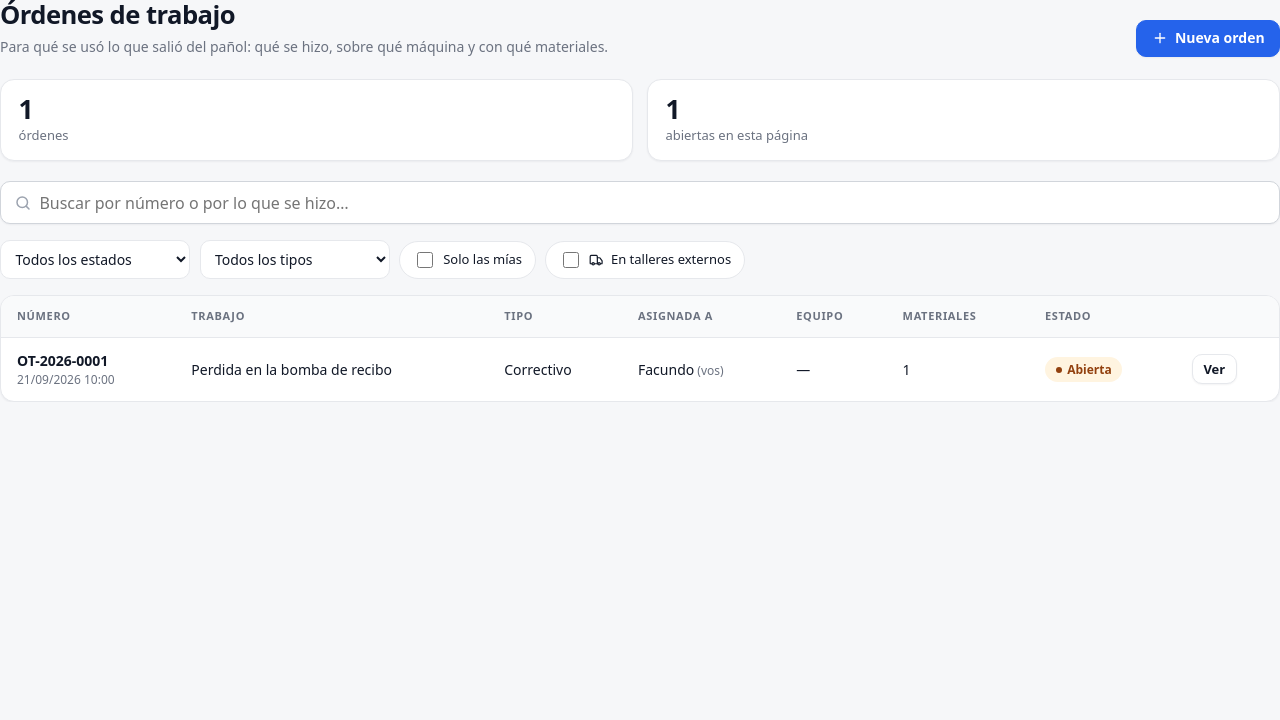
Test: OrdenesTrabajoPage › REGRESION: sin permiso de ver equipos no se ofrece atar la orden a una maquina
The image size is (1280, 720).
Click the button "Nueva orden" at point(1208, 38), box [1136,20,1279,56]
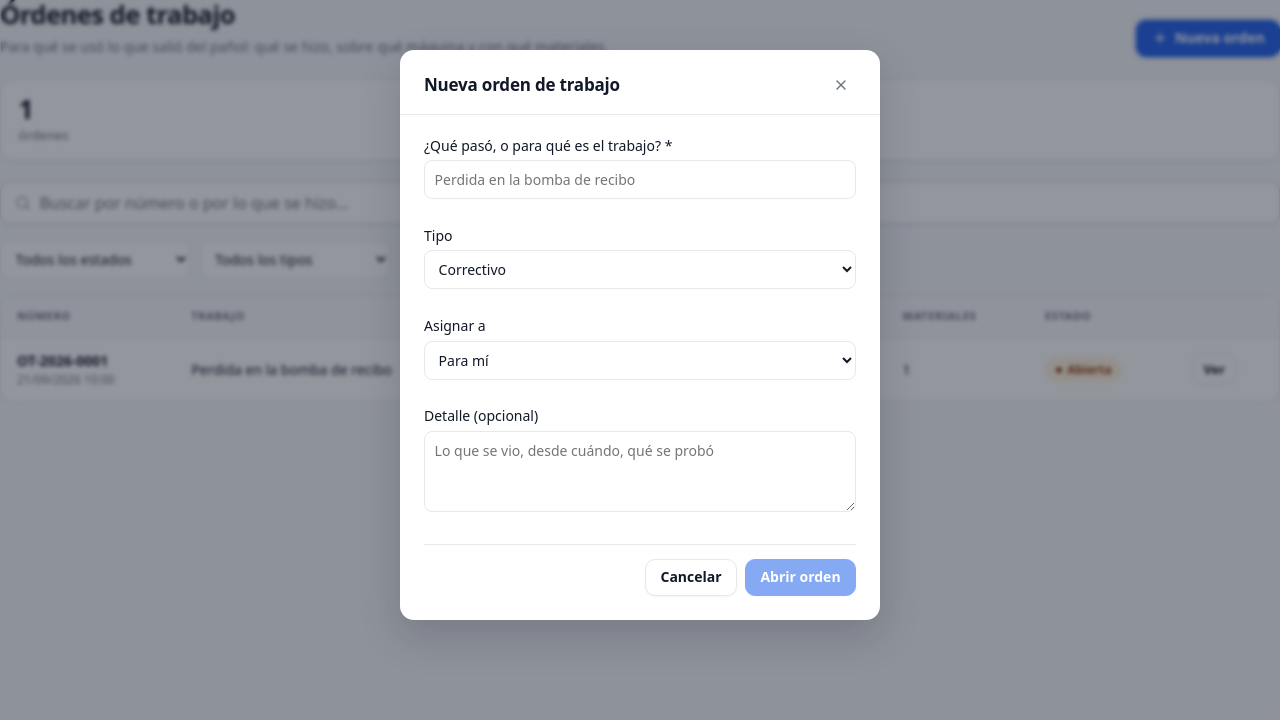
Result: the heading "Nueva orden de trabajo" is shown at [424,72,620,98]
Result: the field labelled "¿Qué pasó, o para qué es el trabajo? *" is shown at [424,160,856,199]
